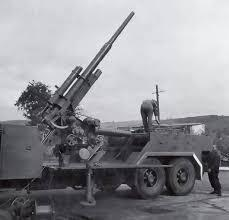MIL_SPG: (16, 12, 221, 206)
